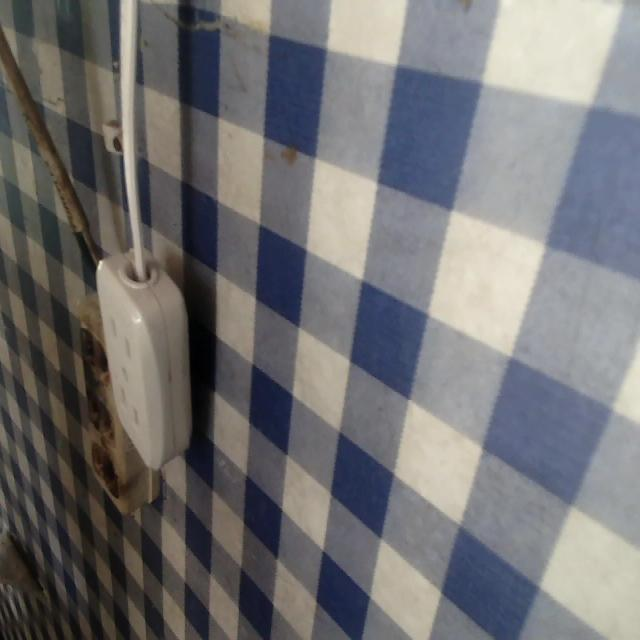-: (70, 318, 119, 386), (77, 381, 122, 444), (87, 449, 127, 499)
